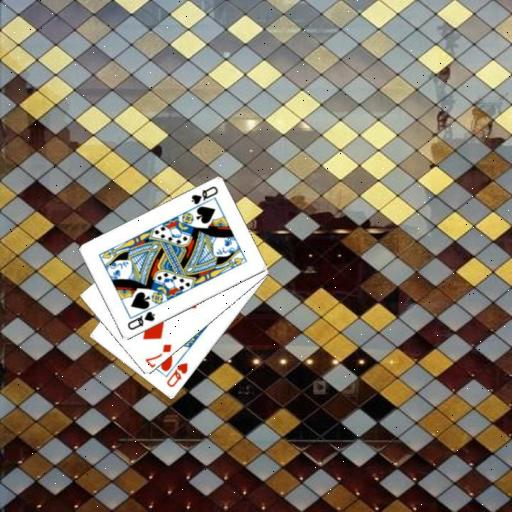7D: (142, 342, 174, 369)
QH: (164, 360, 190, 389)
QS: (124, 309, 156, 332), (188, 184, 220, 207)
